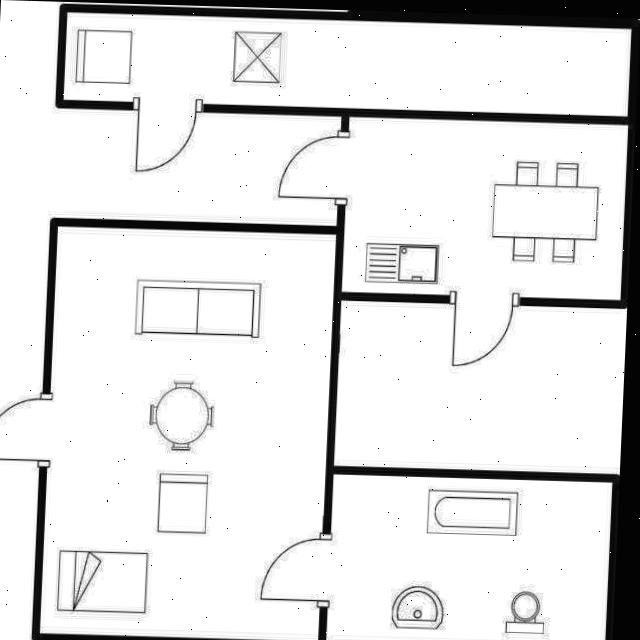room: (39, 224, 335, 640), (63, 12, 631, 117), (341, 117, 627, 300), (326, 474, 611, 640)
